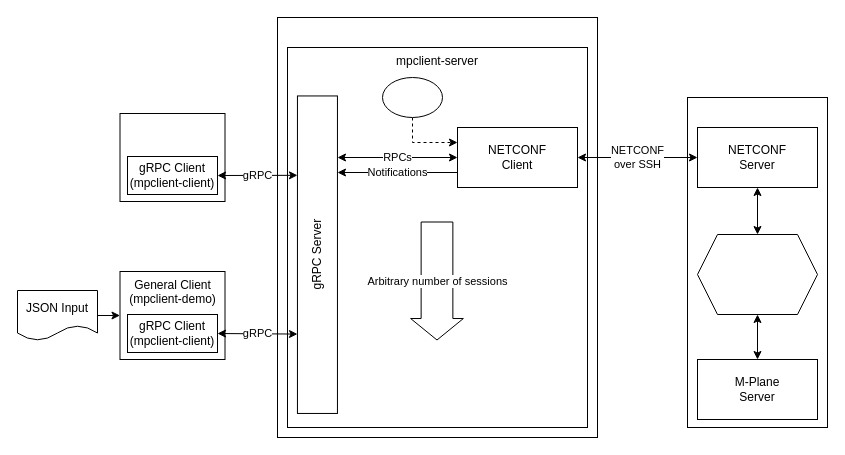
This 845x455 diagram has some shape labels left out. The box of each missing label's shape, as (x1, y1, x2, y2) in pixels:
O-DU in hierarchical topology, other in hybrid topology: (276, 16, 598, 438)
O-RU: (686, 96, 828, 428)
Session ID: (382, 76, 442, 118)
sysrepo: (696, 234, 818, 314)
Unit Testing (mpclient-tests): (119, 112, 225, 202)
